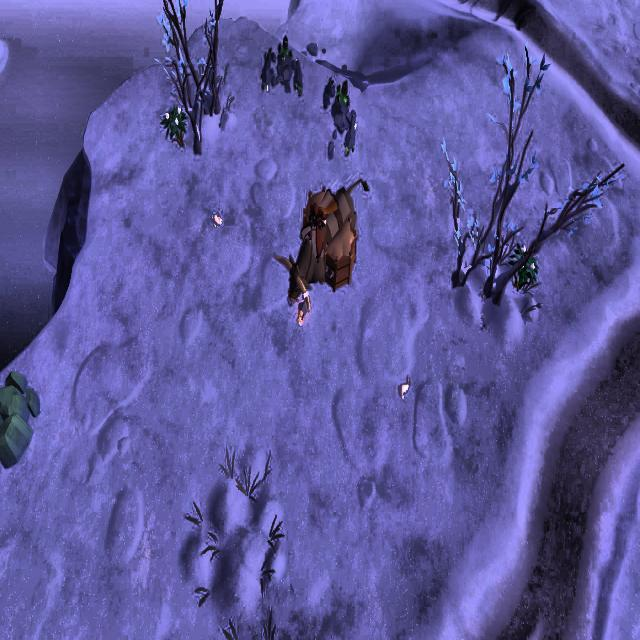fiber_t3: (504, 237, 540, 300), (159, 100, 192, 152)
mobOre_t3: (319, 76, 360, 166), (259, 36, 304, 102)
rock_t3: (0, 368, 49, 476)
